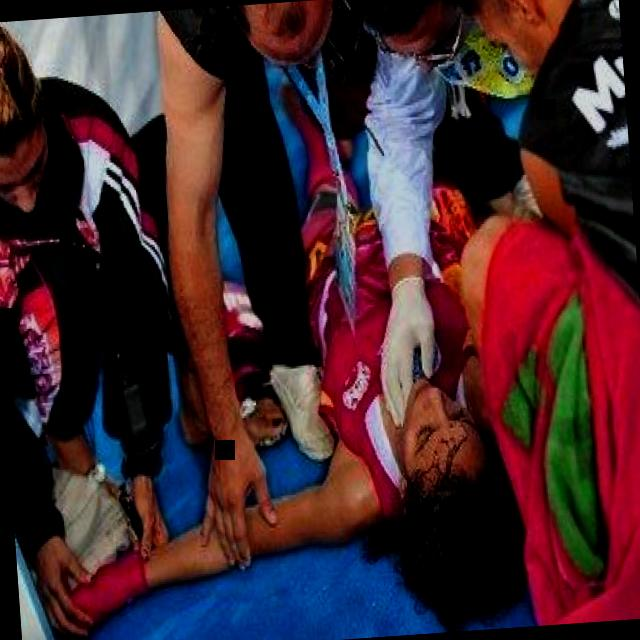Fall-Detected: (144, 21, 536, 606)
